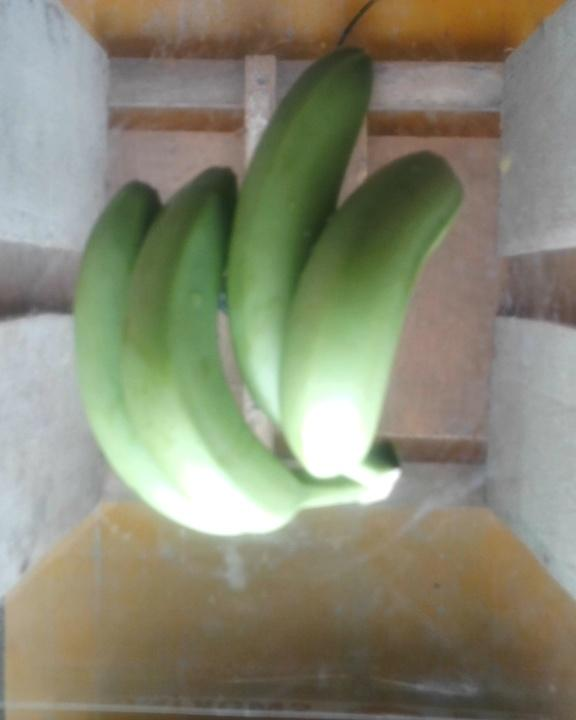SPOT: (25, 48, 476, 535)
